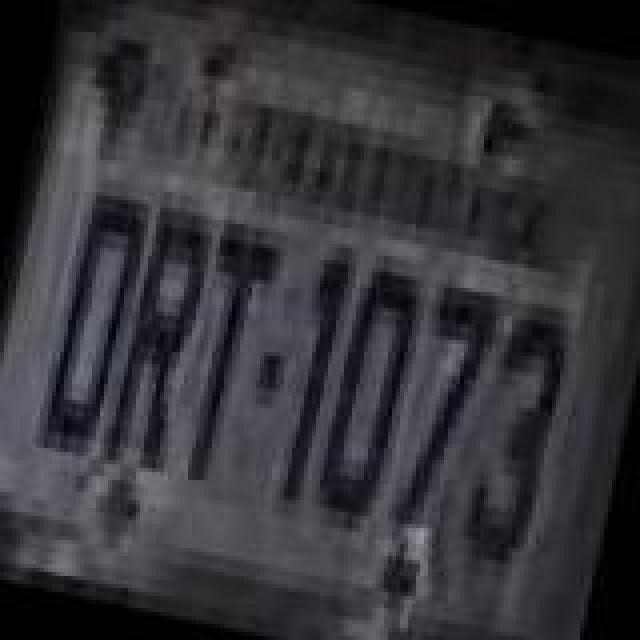1: (264, 234, 360, 518)
3: (452, 296, 580, 584)
7: (392, 278, 504, 546)
D: (34, 184, 150, 456)
O: (310, 254, 426, 530)
R: (100, 202, 220, 478)
T: (164, 214, 284, 498)
